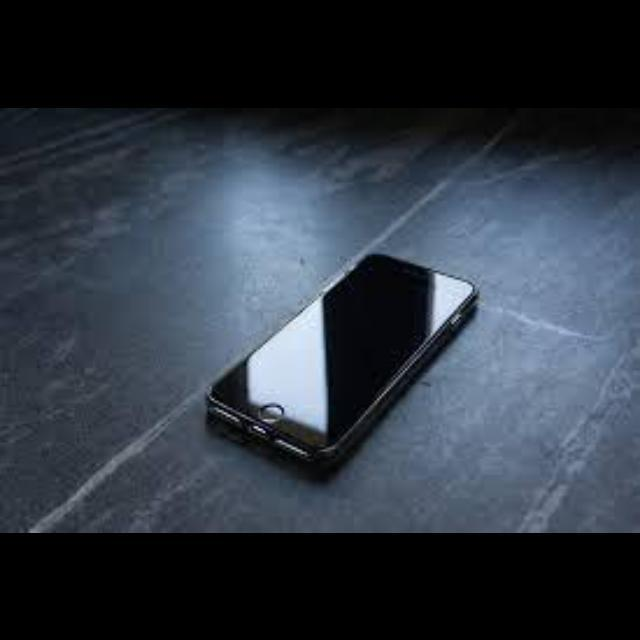Phone: (206, 255, 478, 471)
